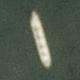ship: (0, 0, 20, 31)
